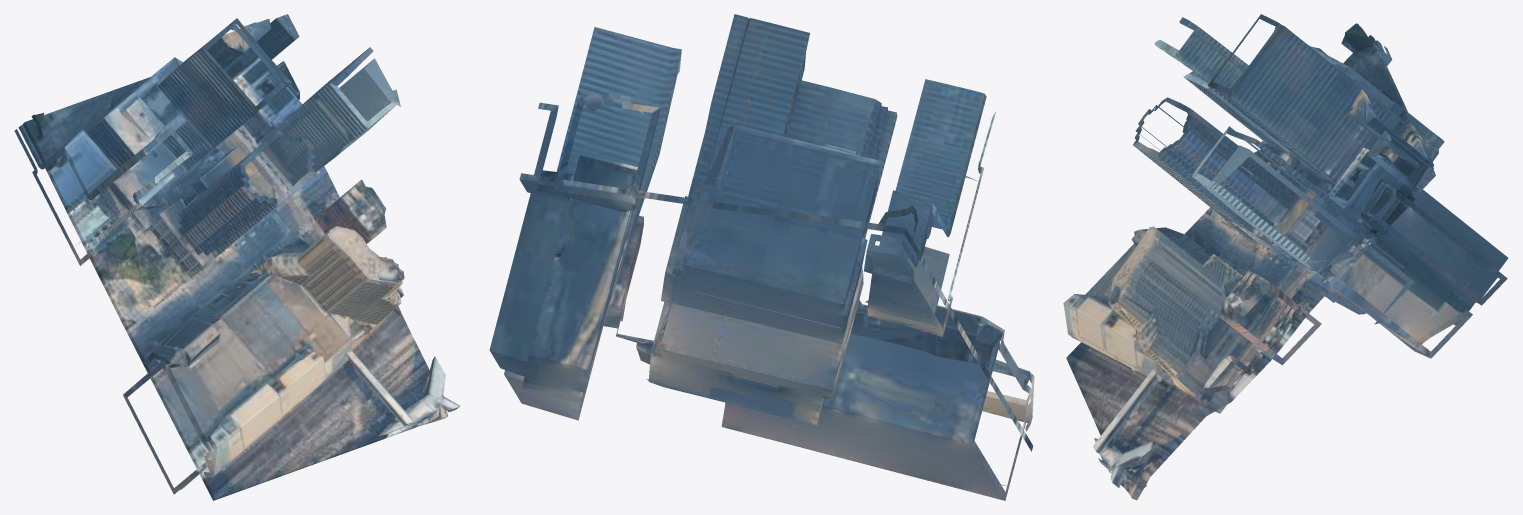
File: AJVsH2wQN89uaLstCLR-oNcmb8AVM430XF2_BBSufeSsyS78bvi-NKJTa3B44SH2aSy3NcaDM-dS97bHFEu784amg5tTXawdpnLi43-y5fbxUHFMYXVb4wCzmd37OAH6fNjHbvxozfzaJb52EeTx_RdNQg75ZMO7Aw.glb
3 renders of one model, left to right at view 1: azimuth 30°, elevation 25°; view 2: azimuth 150°, elevation 25°; view 3: azimuth 270°, elevation 25°, orthographic. The views are drawn at different scales.
Bounding box in the file's own units: 260 × 308 × 301.
3 materials, 3 textured.
